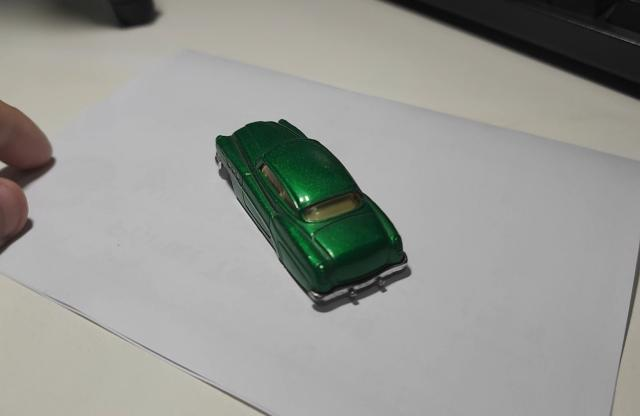06_MASERATI: (214, 120, 413, 314)
